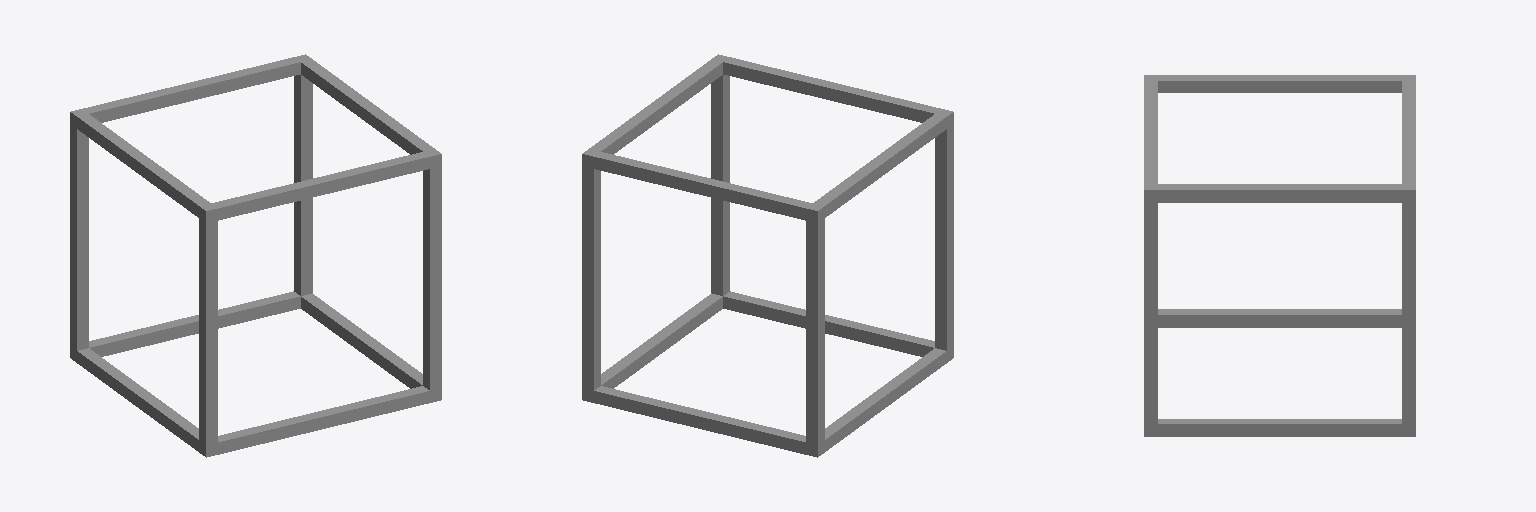
File: cube_bounds.obj
3 views of the same model, side by side, from view 1: azimuth 30°, elevation 25°; view 2: azimuth 150°, elevation 25°; view 3: azimuth 270°, elevation 25° (orthographic).
Visible parts, largest first — view 1: Cube.001; view 2: Cube.001; view 3: Cube.001.
Boxes of the visible parts, <box> form: Cube.001: <box>70,54,441,457</box>; Cube.001: <box>582,54,953,457</box>; Cube.001: <box>1144,75,1415,436</box>.
Bounding box in the file's own units: 2 × 2 × 2.